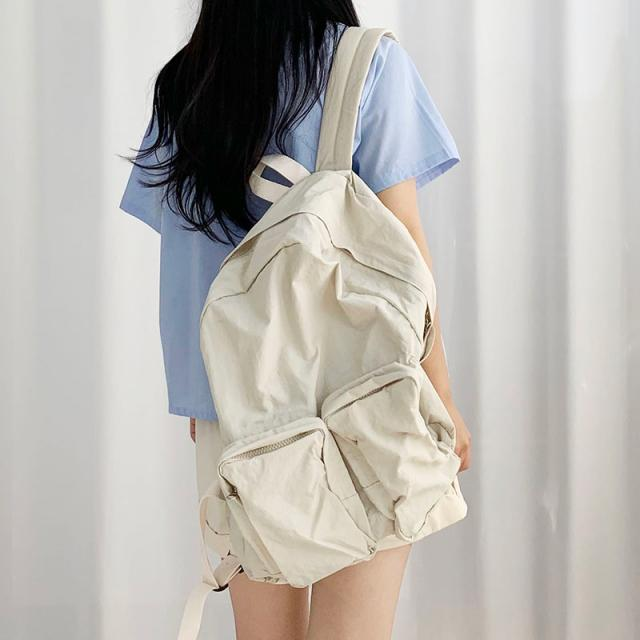backpack: (174, 145, 490, 594)
